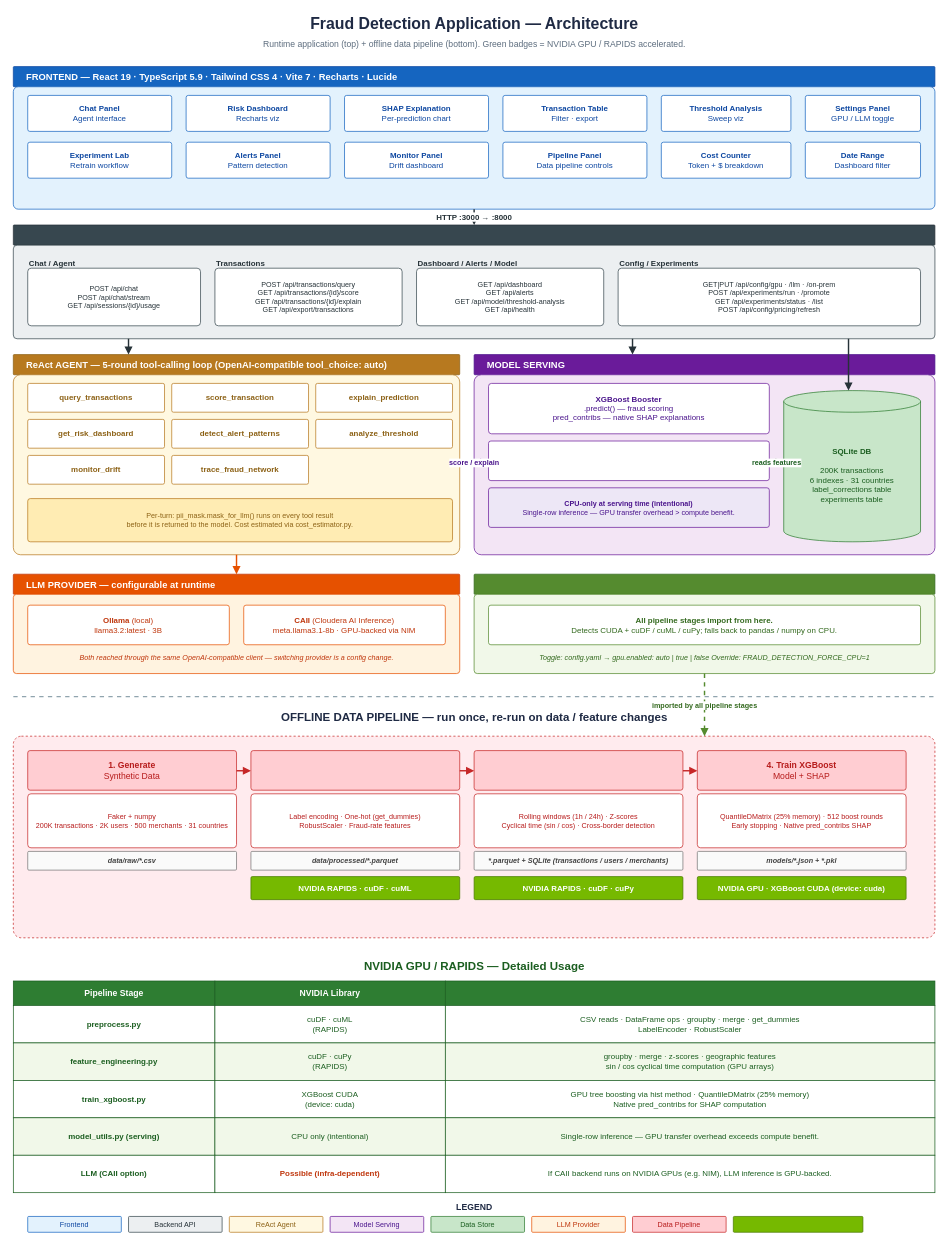
Some shapes in this 948 by 1245 pixel diagram are drawn without their labels. The box of each missing label's shape, as (x1, y1, x2, y2) in pixels:
2. Preprocess Clean · Encode · Scale: (250, 750, 460, 790)
3. Feature Engineering Velocity + Z-scores: (473, 750, 683, 790)
BACKEND API — FastAPI · uvicorn · ORJSONResponse (Rust) · CORS · SSE streaming: (13, 224, 935, 245)
gpu_utils.py — Central GPU abstraction: (473, 573, 935, 594)
NVIDIA GPU / RAPIDS: (733, 1216, 863, 1232)
Preprocessor (pickle) sklearn LabelEncoders + RobustScaler: (488, 440, 769, 481)
What It Accelerates: (445, 980, 935, 1005)
